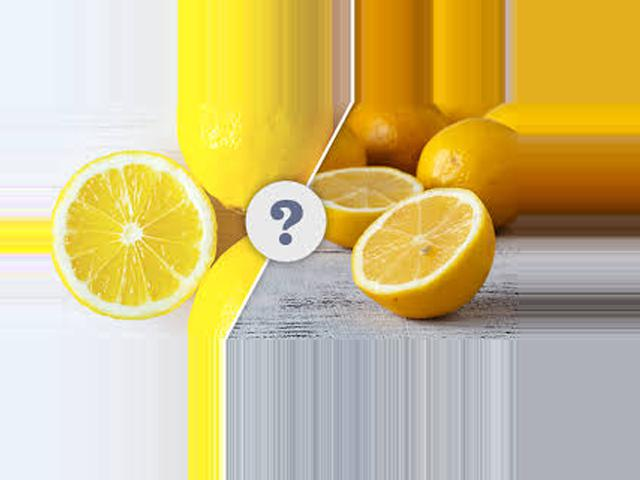lemon: (167, 102, 336, 215)
